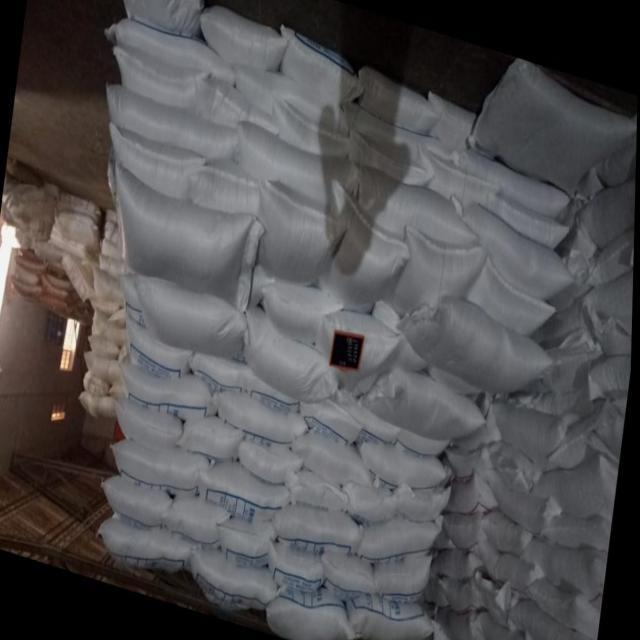gunny_bag: (469, 60, 637, 200), (114, 164, 266, 311), (397, 296, 561, 396), (455, 202, 575, 300), (321, 181, 411, 311), (236, 122, 358, 209), (106, 84, 241, 160), (353, 163, 479, 241), (258, 177, 347, 287), (135, 275, 248, 360), (245, 309, 342, 406), (391, 227, 486, 320), (358, 374, 487, 441), (230, 67, 351, 136), (463, 257, 557, 338), (453, 150, 570, 215), (114, 43, 210, 115), (109, 128, 204, 199), (279, 27, 364, 105), (523, 538, 610, 614), (318, 310, 402, 386), (188, 548, 283, 613), (533, 454, 621, 521), (115, 439, 215, 496), (199, 6, 289, 68), (489, 399, 567, 470), (359, 69, 442, 134), (199, 463, 292, 521), (217, 389, 309, 447), (121, 363, 213, 421), (419, 143, 499, 208), (261, 281, 342, 345), (100, 521, 198, 573), (293, 436, 381, 491), (276, 504, 367, 557), (360, 436, 448, 489), (487, 472, 563, 533), (270, 589, 360, 640), (549, 399, 615, 468), (273, 96, 350, 155), (529, 580, 604, 640), (577, 177, 637, 252), (126, 314, 195, 378), (490, 194, 571, 247), (348, 133, 432, 184), (347, 594, 436, 640), (269, 536, 342, 592), (479, 540, 546, 598), (104, 476, 175, 530), (336, 387, 404, 443), (115, 398, 184, 453), (360, 516, 445, 559), (164, 498, 230, 551), (594, 111, 638, 188), (191, 167, 260, 214), (511, 601, 587, 640), (427, 92, 476, 150), (585, 230, 634, 287), (303, 399, 364, 444), (376, 554, 435, 600), (240, 442, 306, 483), (179, 416, 245, 457), (123, 0, 202, 34), (324, 551, 376, 601), (546, 345, 600, 393), (545, 514, 613, 552), (246, 367, 303, 412), (219, 519, 275, 564), (289, 472, 351, 511), (584, 270, 635, 317), (484, 511, 536, 557), (537, 300, 589, 346), (191, 354, 249, 394), (449, 469, 501, 513), (398, 481, 453, 521), (590, 357, 633, 400), (445, 511, 489, 552), (448, 446, 494, 483), (441, 578, 487, 612), (434, 548, 485, 578), (474, 611, 524, 640), (490, 454, 528, 490), (94, 267, 125, 307), (94, 310, 127, 346), (87, 354, 121, 386), (80, 392, 117, 421), (453, 609, 487, 640), (91, 334, 121, 359), (99, 255, 129, 278), (86, 371, 110, 397), (103, 240, 116, 257)
